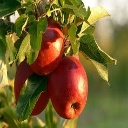apple: (13, 59, 50, 118)
